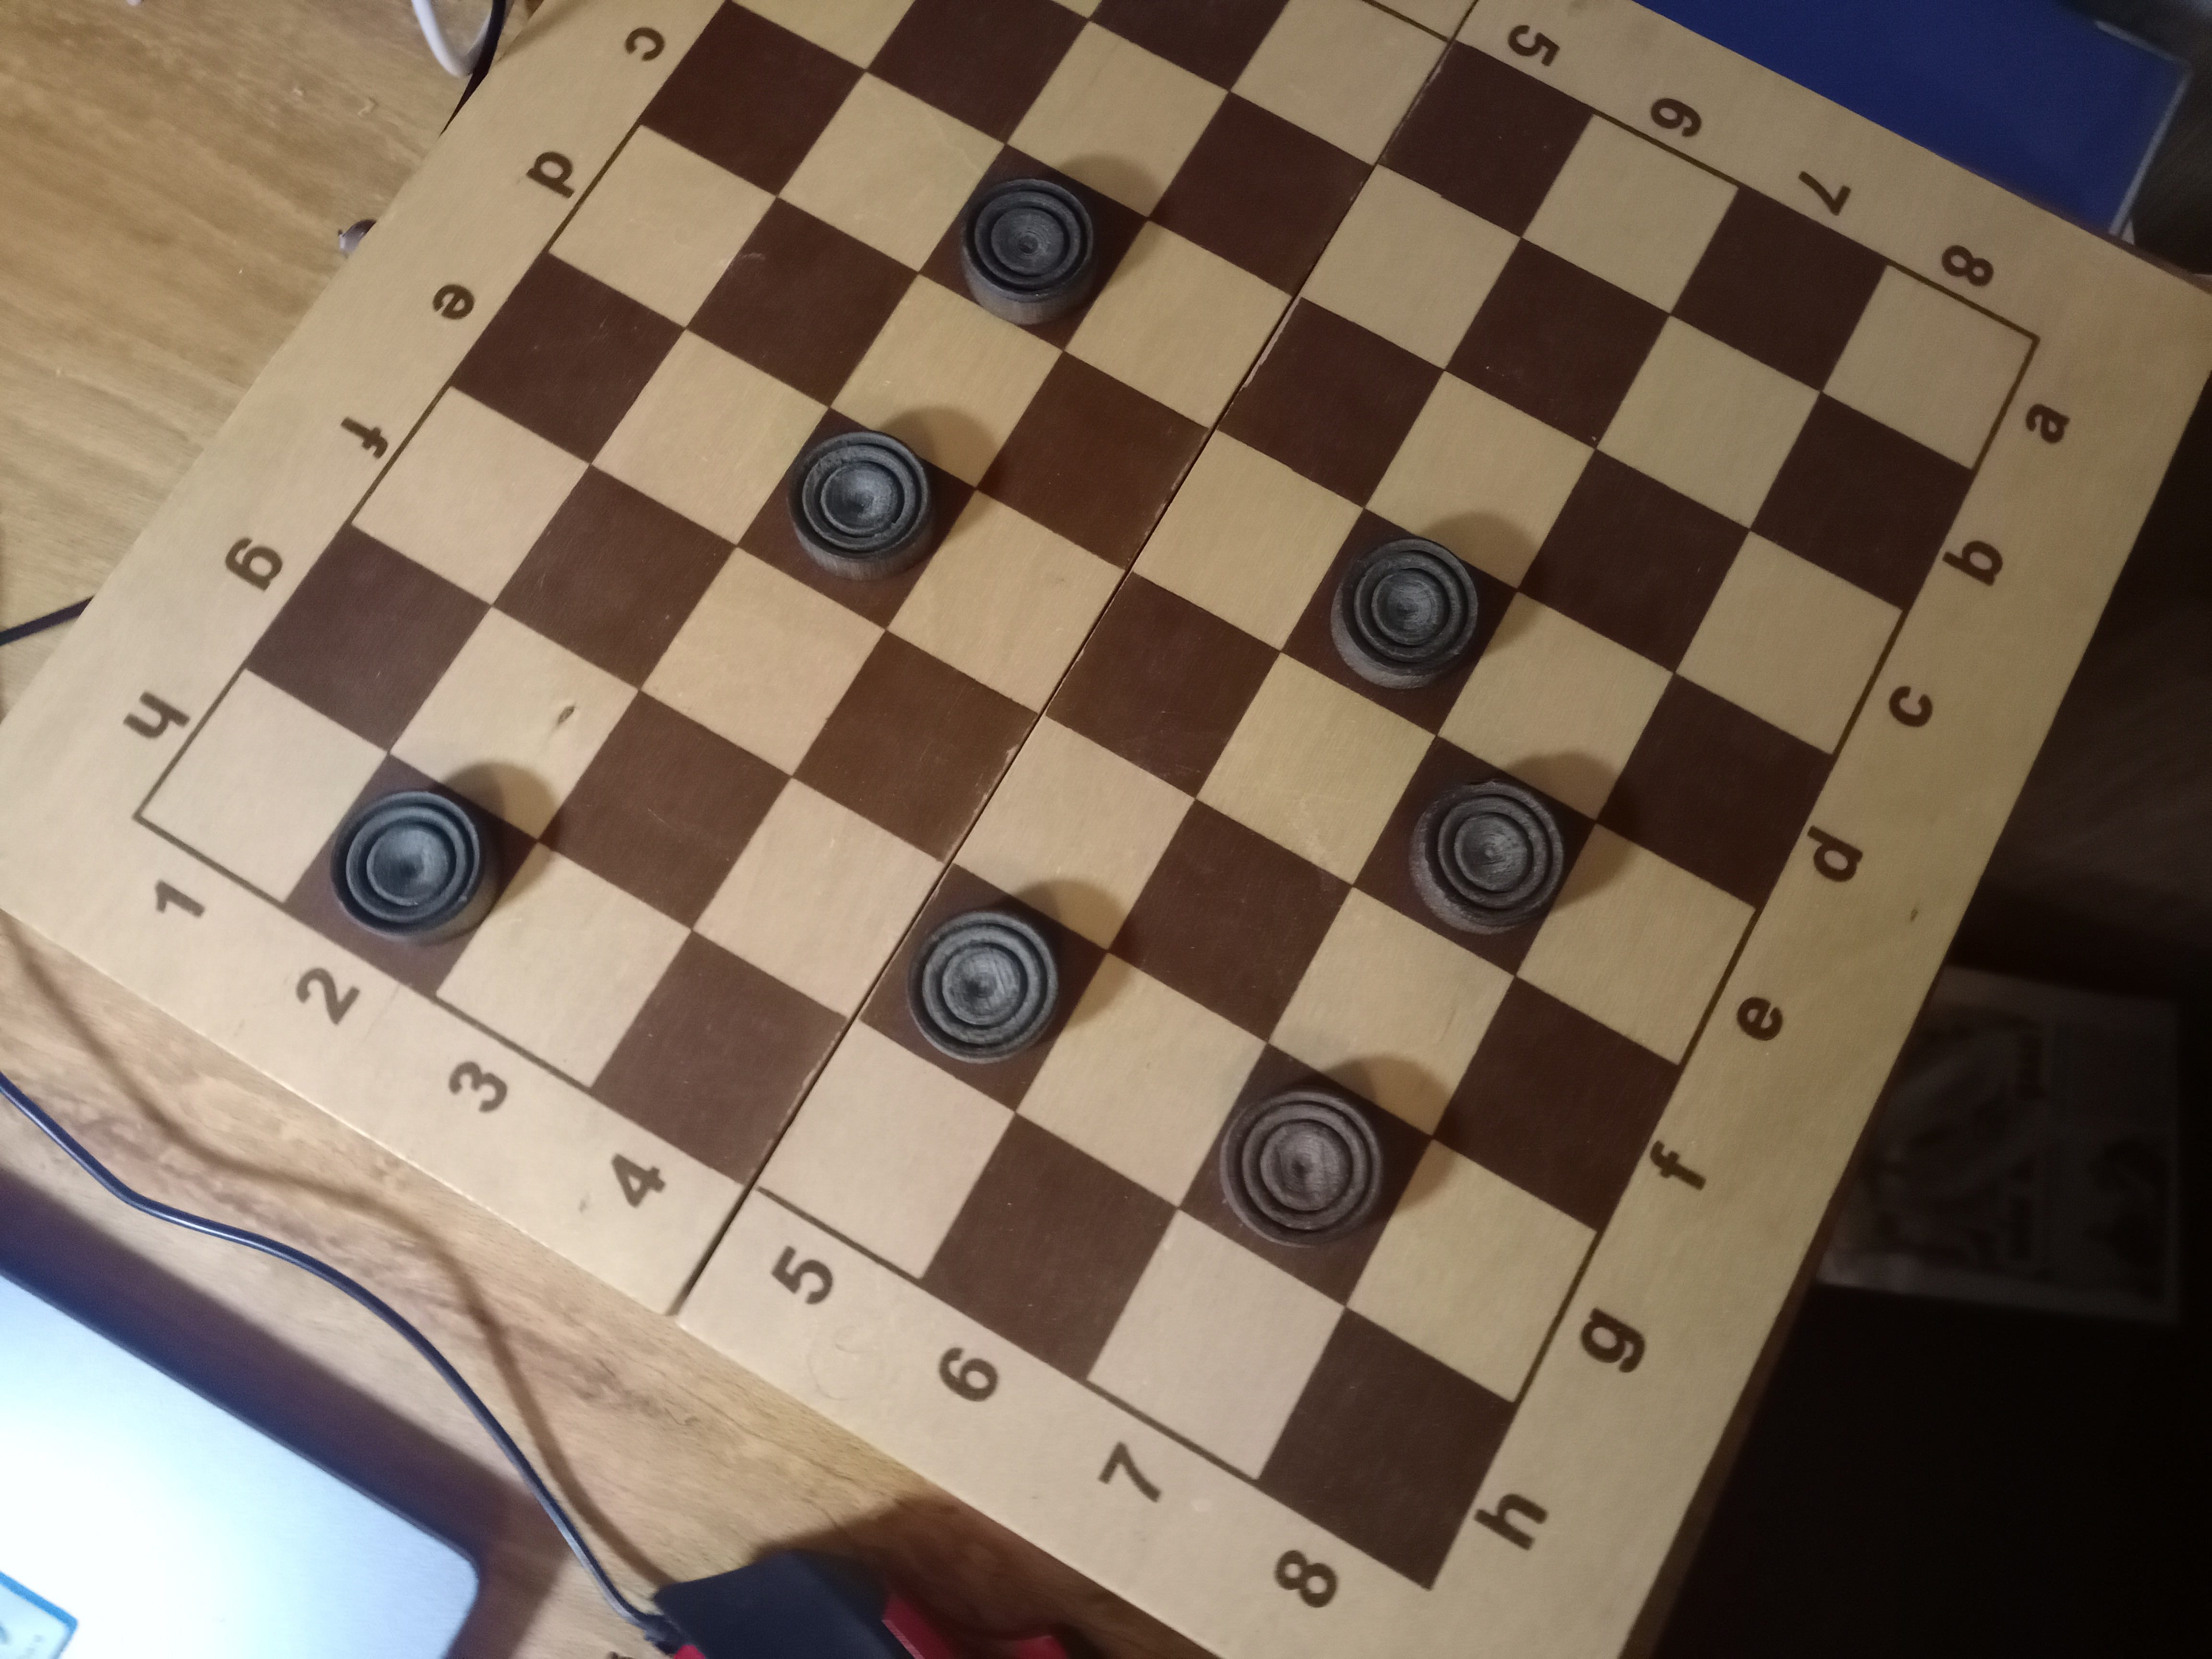Black_Draught: (1176, 1042, 1435, 1305), (279, 753, 540, 995), (855, 864, 1106, 1115), (1353, 735, 1599, 976), (737, 410, 977, 636), (1280, 509, 1517, 734), (918, 141, 1150, 352)
